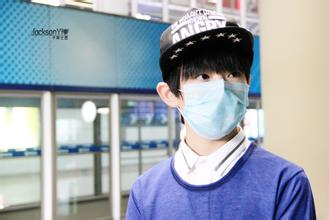yes_mask: (152, 9, 255, 141)
